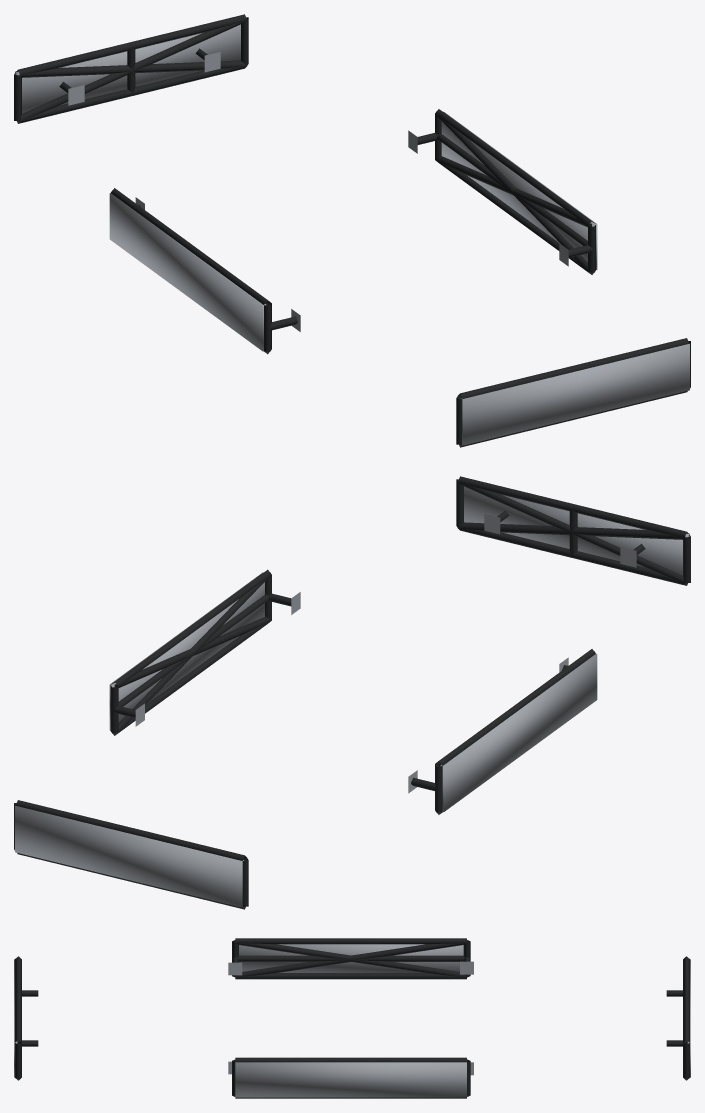
The model's file is keldorf_baluarte_protecao.glb.
3 renders of one model, top to bottom at view 1: azimuth 30°, elevation 25°; view 2: azimuth 150°, elevation 25°; view 3: azimuth 270°, elevation 25°, orthographic. The views are drawn at different scales.
Parts seen in each view (by area): view 1: Protection_front_Level3_Details, Protection_left_Level3_Details, Protection_rear_Level3_Details, Protection_rear_Level1_Details, Protection_right_Level1_Details, Protection_rear_Level2_Details, Protection_right_Level2_Details, Protection_right_Level3_Details, Protection_front_Level1_Details, Protection_left_Level1_Details; view 2: Protection_rear_Level3_Details, Protection_left_Level3_Details, Protection_front_Level3_Details, Protection_front_Level1_Details, Protection_right_Level1_Details, Protection_front_Level2_Details, Protection_right_Level2_Details, Protection_right_Level3_Details, Protection_rear_Level1_Details, Protection_left_Level1_Details; view 3: Protection_right_Level3_Details, Protection_left_Level2_Details, Protection_left_Level1_Details, Protection_left_Level3_Details, Protection_right_Level1_Details, Protection_rear_Level1_Details, Protection_front_Level1_Details.
Boxes of the visible parts, x1,y1,x2,y2 form: Protection_front_Level3_Details: (461,344,689,445); Protection_left_Level3_Details: (109,193,266,351); Protection_rear_Level3_Details: (15,24,240,113); Protection_rear_Level1_Details: (14,14,248,123); Protection_right_Level1_Details: (408,109,595,274); Protection_rear_Level2_Details: (16,20,246,122); Protection_right_Level2_Details: (435,114,595,274); Protection_right_Level3_Details: (441,111,597,269); Protection_front_Level1_Details: (456,338,690,447); Protection_left_Level1_Details: (111,188,300,354); Protection_rear_Level3_Details: (15,806,243,907); Protection_left_Level3_Details: (440,654,597,812); Protection_front_Level3_Details: (464,486,689,575); Protection_front_Level1_Details: (456,476,690,585); Protection_right_Level1_Details: (110,569,300,735); Protection_front_Level2_Details: (458,482,688,584); Protection_right_Level2_Details: (111,575,271,735); Protection_right_Level3_Details: (109,572,264,730); Protection_rear_Level1_Details: (14,800,248,909); Protection_left_Level1_Details: (408,649,595,814); Protection_right_Level3_Details: (235,1062,466,1097); Protection_left_Level2_Details: (235,941,467,977); Protection_left_Level1_Details: (228,938,473,979); Protection_left_Level3_Details: (239,944,463,972); Protection_right_Level1_Details: (228,1057,473,1098); Protection_rear_Level1_Details: (666,956,689,1080); Protection_front_Level1_Details: (15,956,38,1080).
Size of the model in its own units: 2.28 by 0.354 by 5.29.
1 material, 1 textured.
